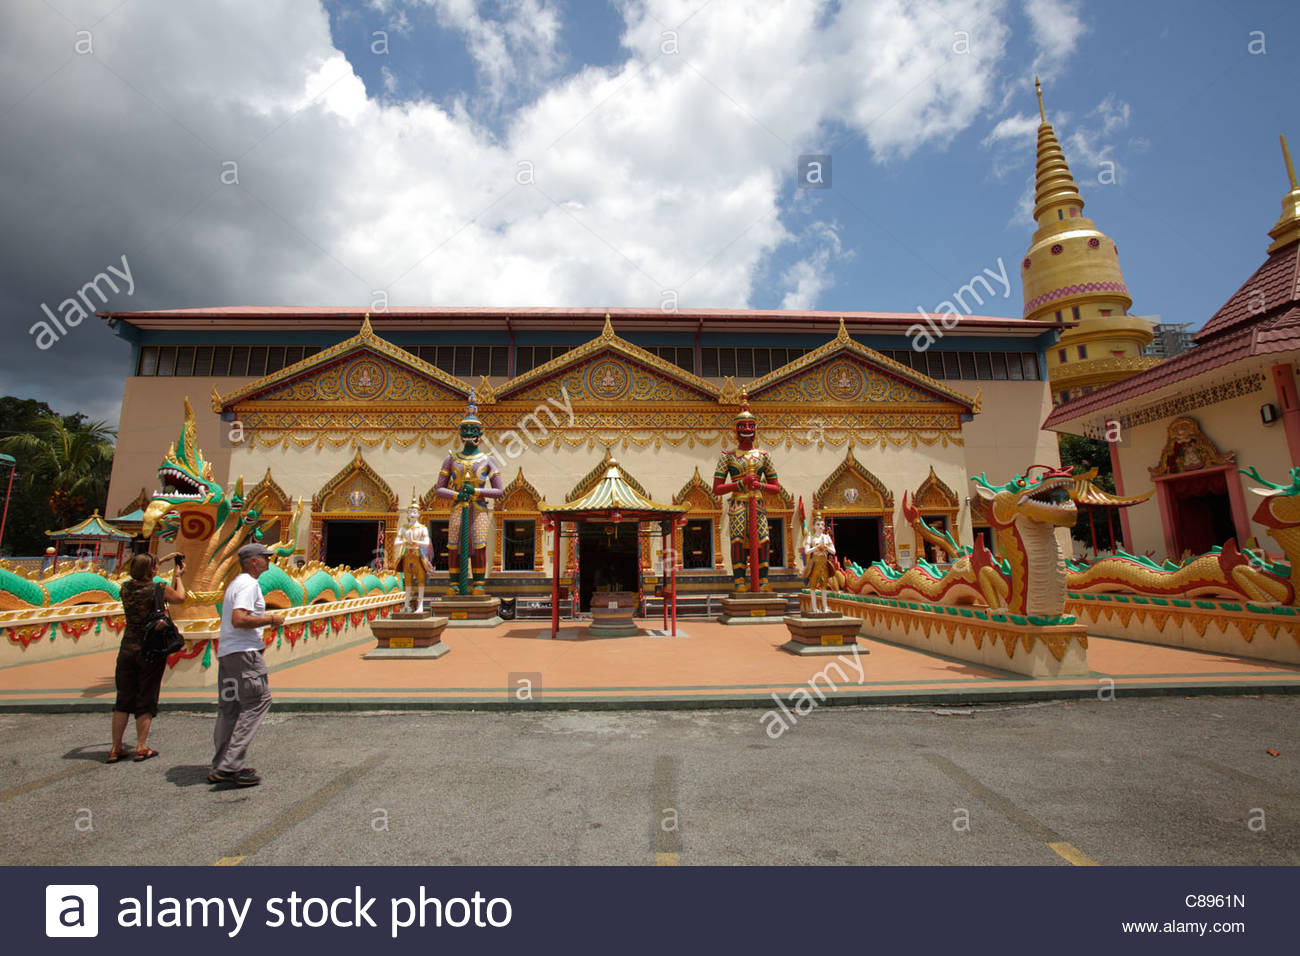Buddhist Temple: (102, 113, 1286, 650)
